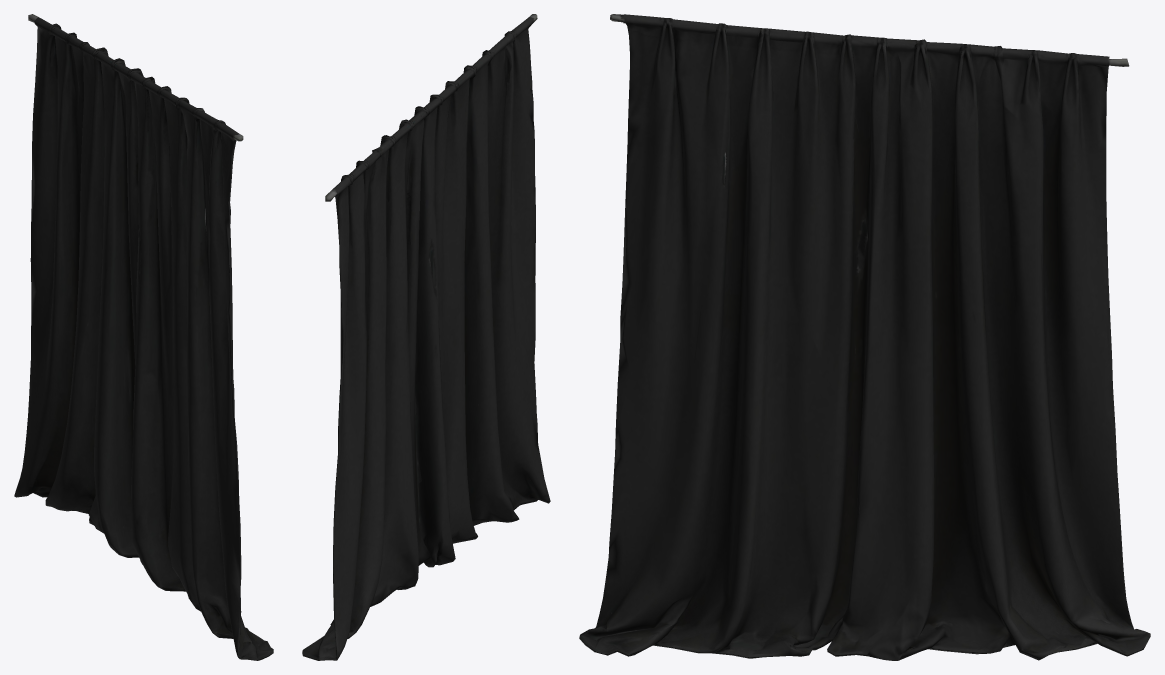
Rendered from stage_curtain_3d_model.fbx.
3 renders of one model, left to right at view 1: azimuth 30°, elevation 25°; view 2: azimuth 150°, elevation 25°; view 3: azimuth 270°, elevation 25°, orthographic. The views are drawn at different scales.
Visible parts, largest first — view 1: tripo_node_9380c201; view 2: tripo_node_9380c201; view 3: tripo_node_9380c201.
Boxes of the visible parts, x1=… form: tripo_node_9380c201: x1=14, y1=14, x2=273, y2=660; tripo_node_9380c201: x1=302, y1=14, x2=550, y2=660; tripo_node_9380c201: x1=579, y1=14, x2=1150, y2=660.
Size of the model in its own units: 0.1006 by 0.9791 by 0.811.
